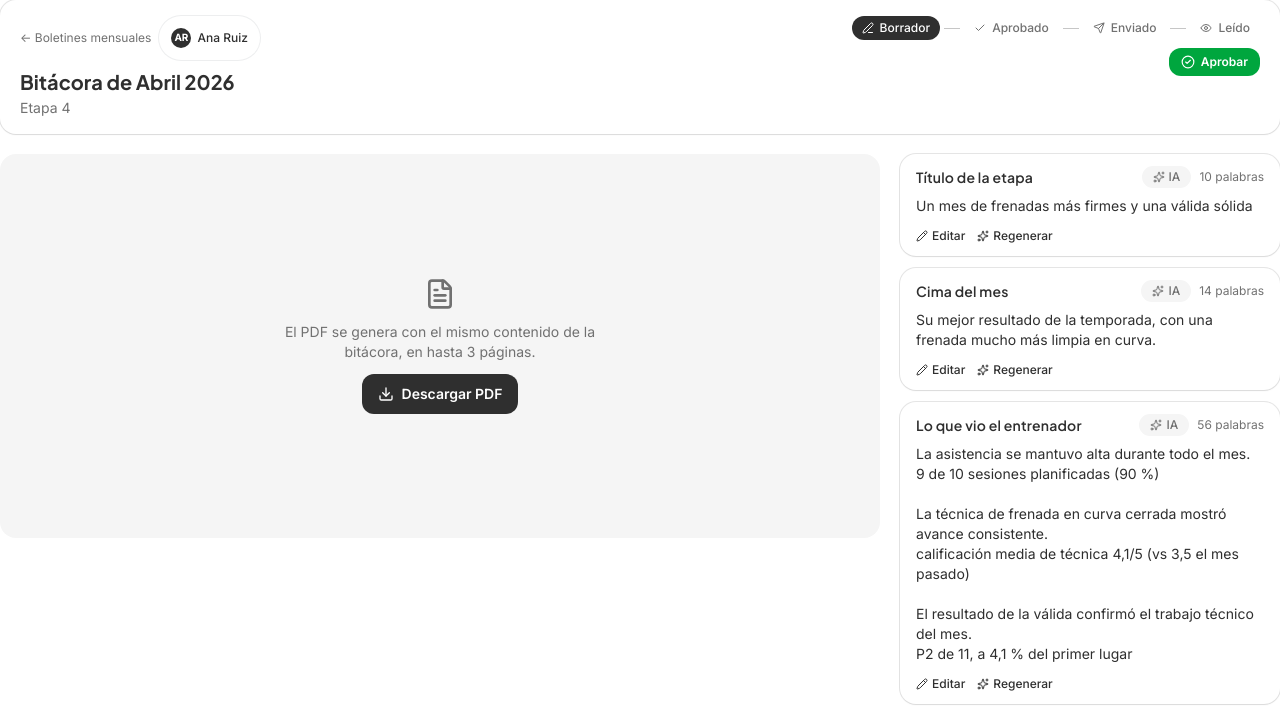
it: AthleteNewsletterStudioPage › 'Recargar' invalida la query una sola vez, limpia el banner y resiembra el draft del servidor
This screenshot has width=1280, height=712.
Expected: the element with test id "block-card-header" is shown, [900,154,1279,256]
Step 1. Click the button with test id "block-edit-header" → (941, 236), box [916,228,965,244]
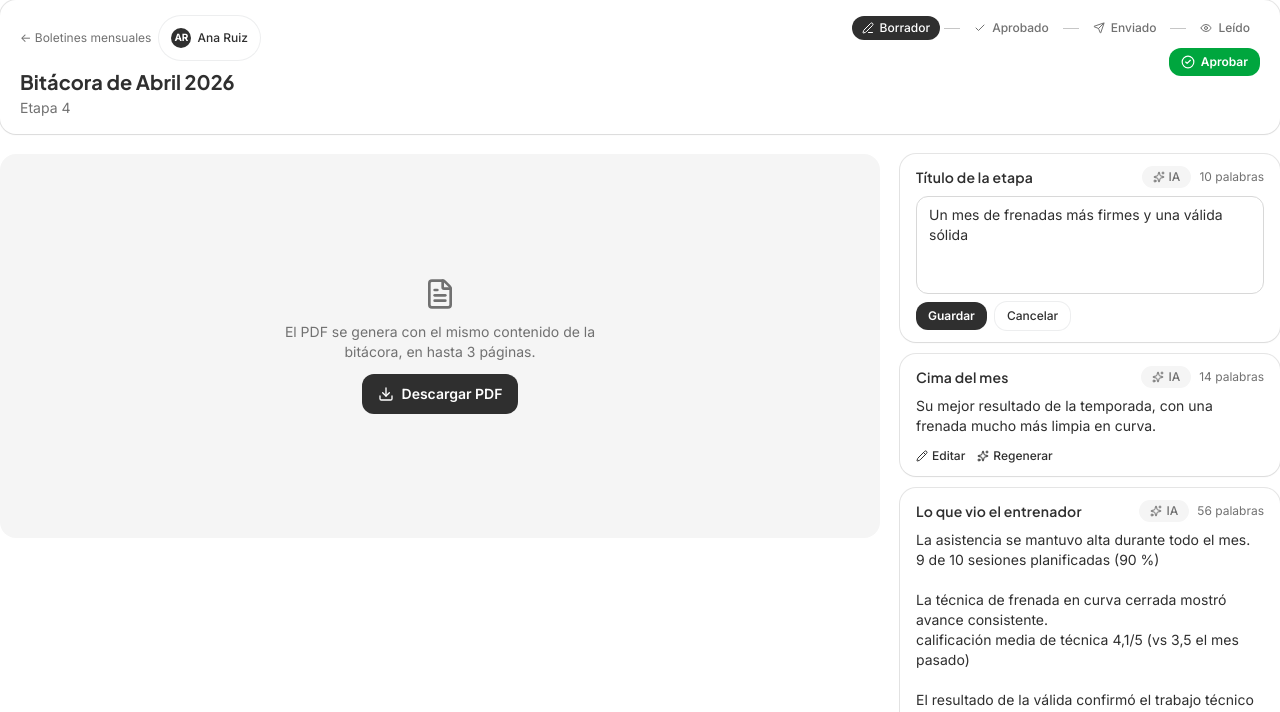
Step 2. Replace the text in the text box named "Editar Título de la etapa" with "Texto que no se debe perder" → (1090, 245), box [916,196,1264,294]
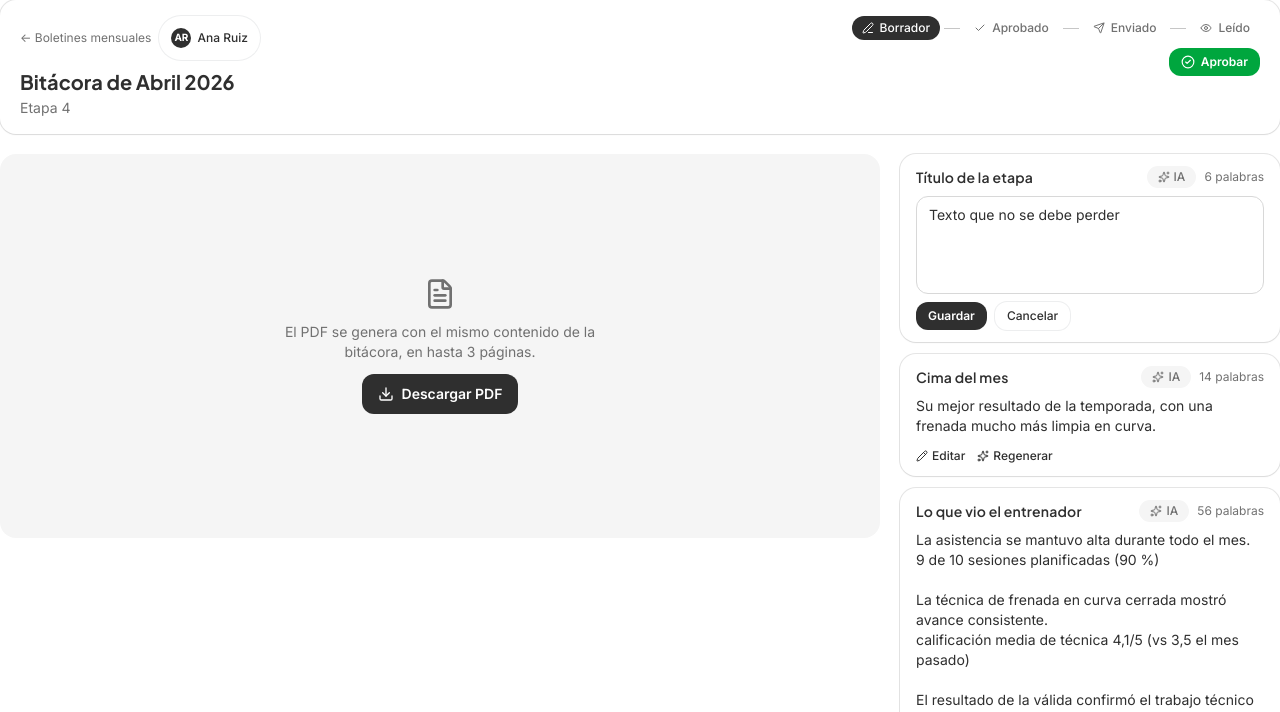
Step 3. Click the button with test id "block-save-header" → (951, 316), box [916,302,987,330]
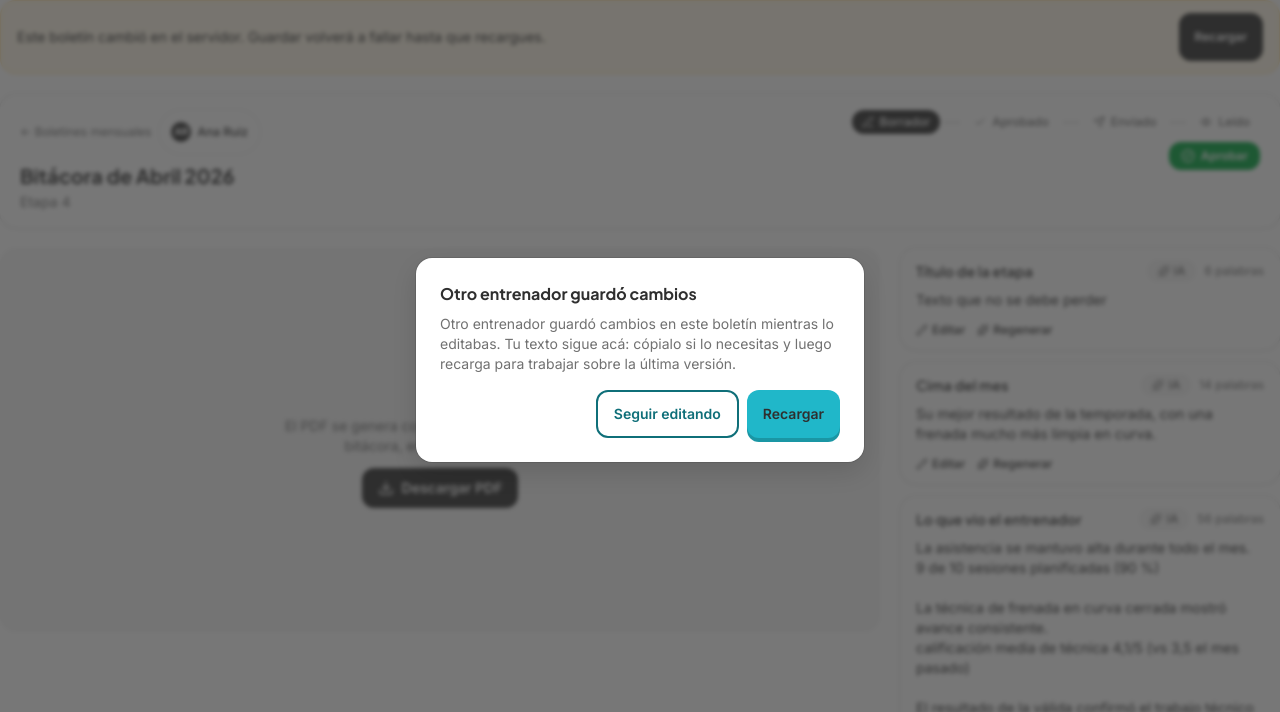
Expected: the dialog with test id "newsletter-conflict-dialog" is shown, [416,258,864,462]
Step 4. Click the button with test id "newsletter-conflict-reload" → (793, 414), box [747,390,840,438]
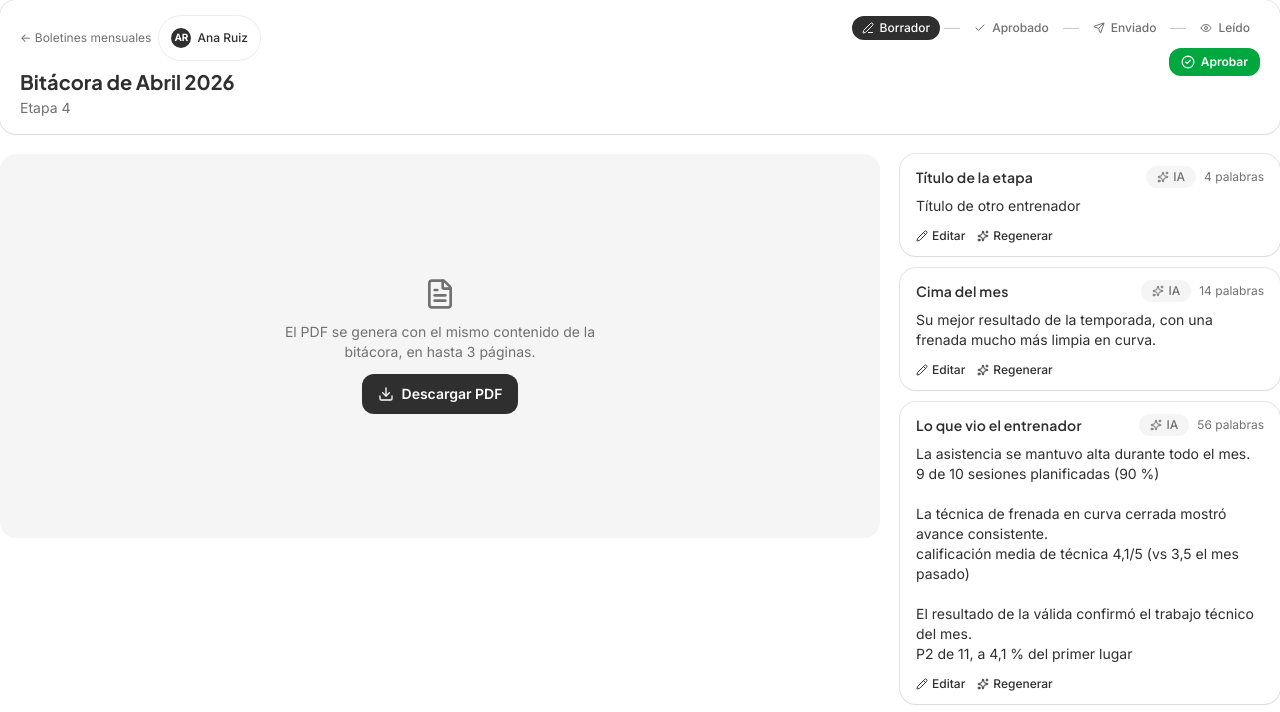
Expected: the dialog with test id "newsletter-conflict-dialog" is gone
Expected: the message with test id "newsletter-conflict-banner" is gone
Expected: the element with test id "block-card-header" shows "Título de otro entrenador", [916,197,1081,214]
